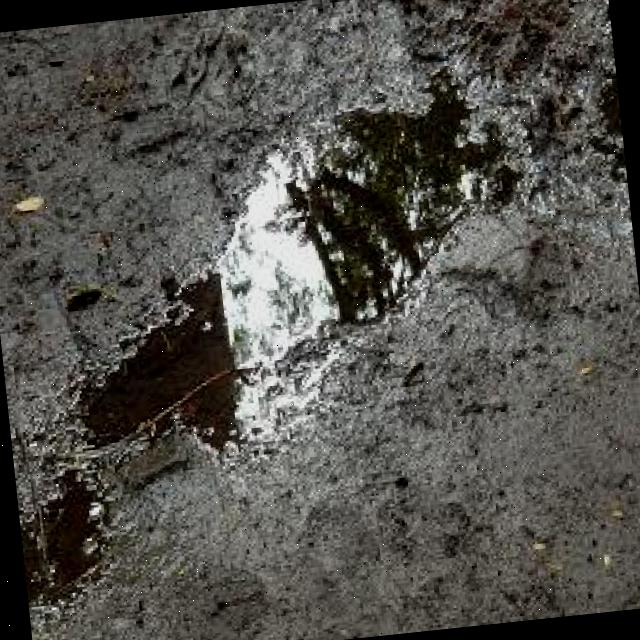stagnation: (65, 75, 499, 462)
